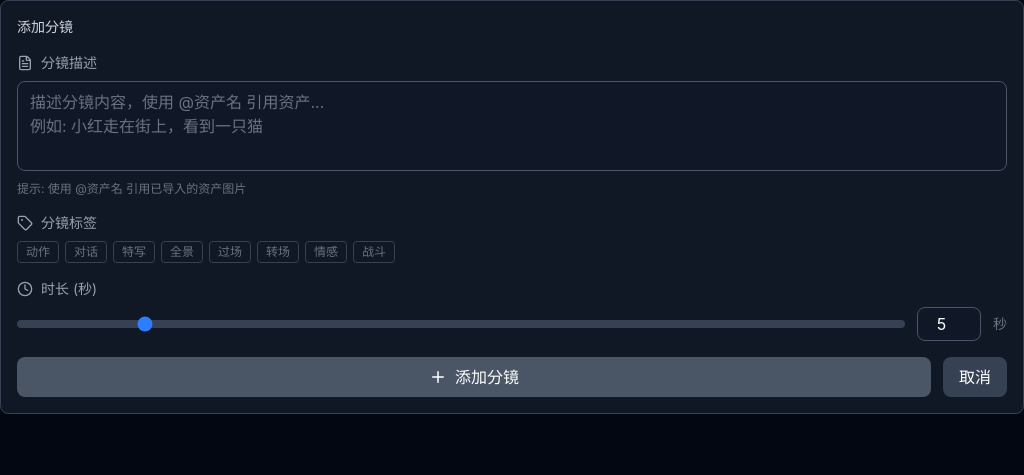
Test case: ShotEditor Component › highlights assets in preview
The image size is (1024, 475).
Type "Using @existingAsset and @missingAsset" into the text box with placeholder "描述分镜内容，使用 @资产名 引用资产... 例如: 小红走在街上，看到一只猫". click: (512, 126)
box: [17,81,1007,171]
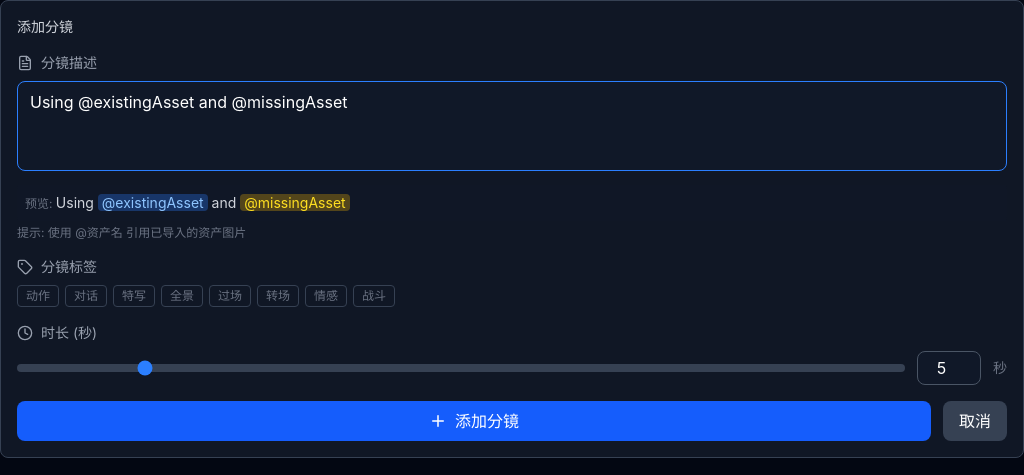
Expected: the text "预览:" is shown, [25,196,56,211]
